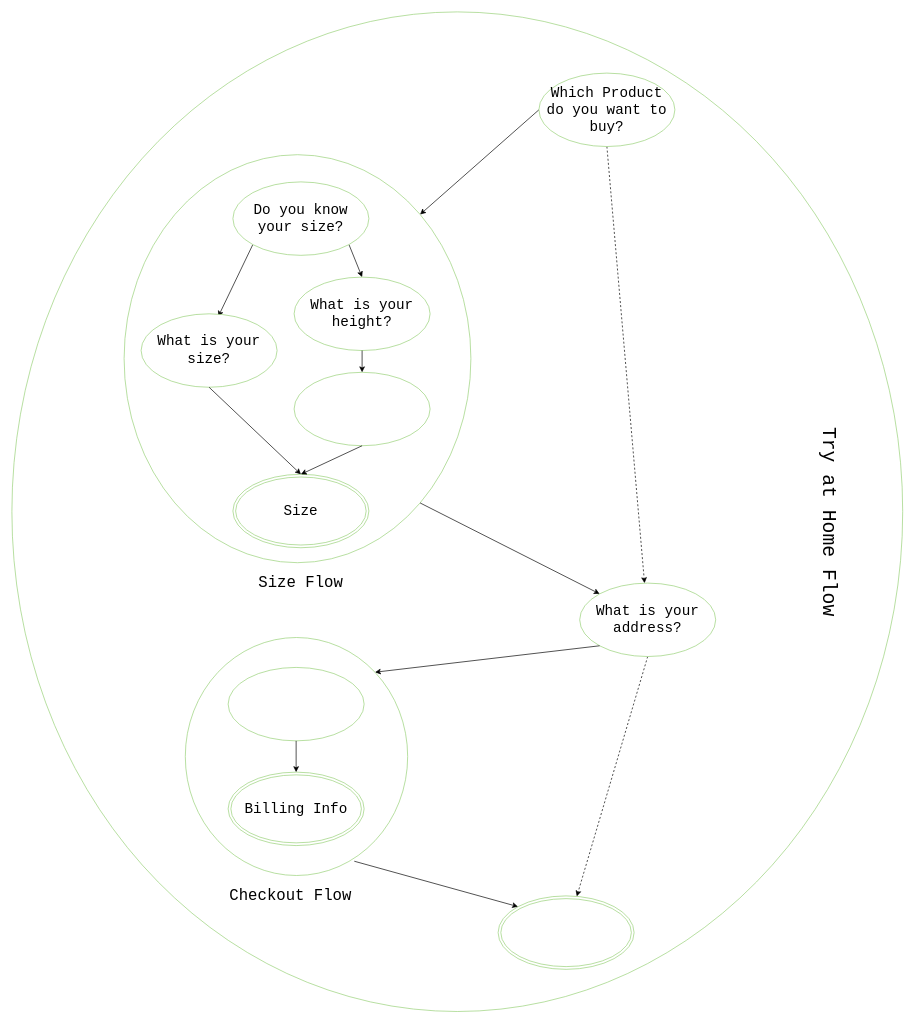
Some shapes in this 915 by 1023 pixel diagram are drawn without their labels. The shapes that lost their labels are listed below. From the top down, each one's centre as x and y in pixels, then its label:
At point 361,409: "What is your weight?".
At point 295,704: "Credit Card?".
At point 565,932: "Final Result".
